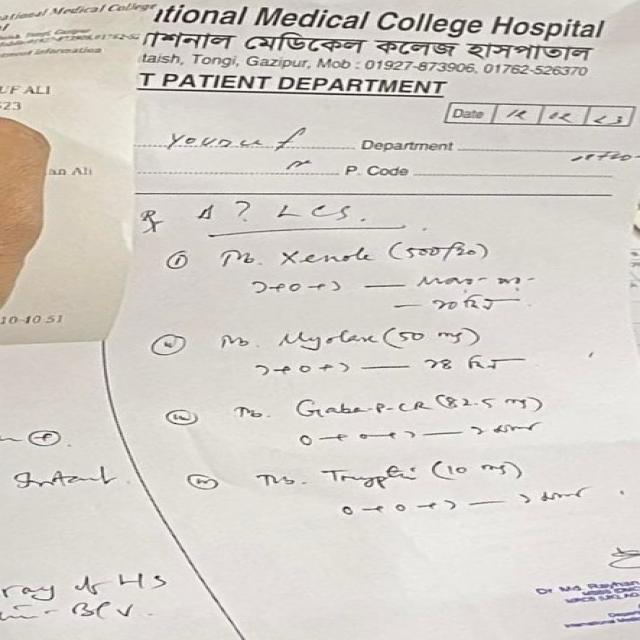Gaba-P CR: (288, 394, 437, 422)
Myolax: (269, 326, 384, 353)
Tryptin: (303, 456, 430, 494)
Xenole: (268, 244, 384, 270)
